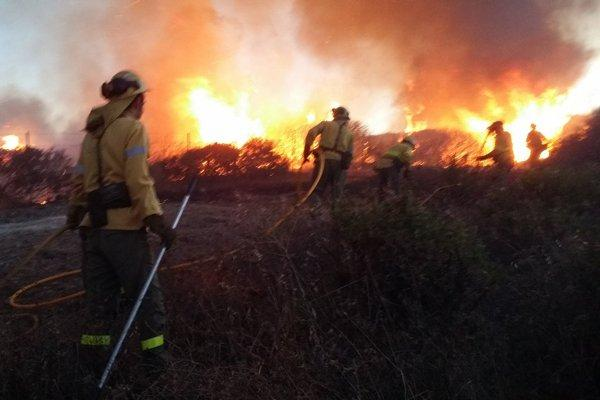fire: (180, 96, 273, 149), (483, 99, 565, 144)
smoke: (318, 4, 571, 76)
